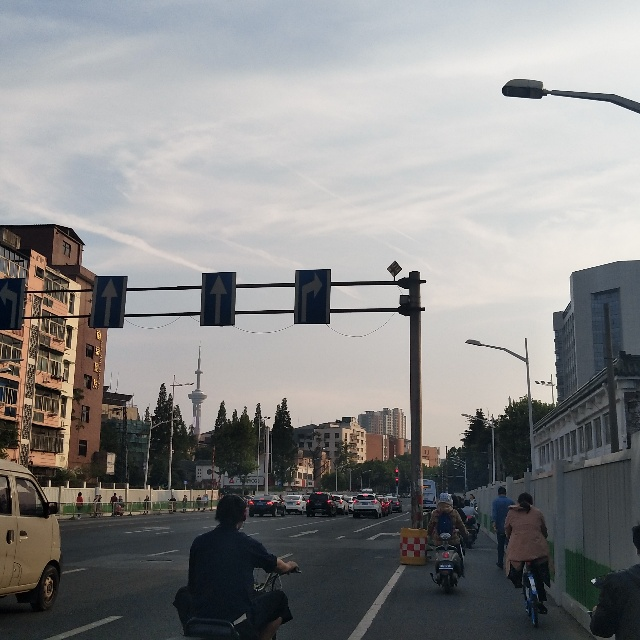left: (1, 276, 26, 331)
right: (294, 269, 330, 324)
straight: (200, 272, 237, 327), (90, 275, 127, 328)
